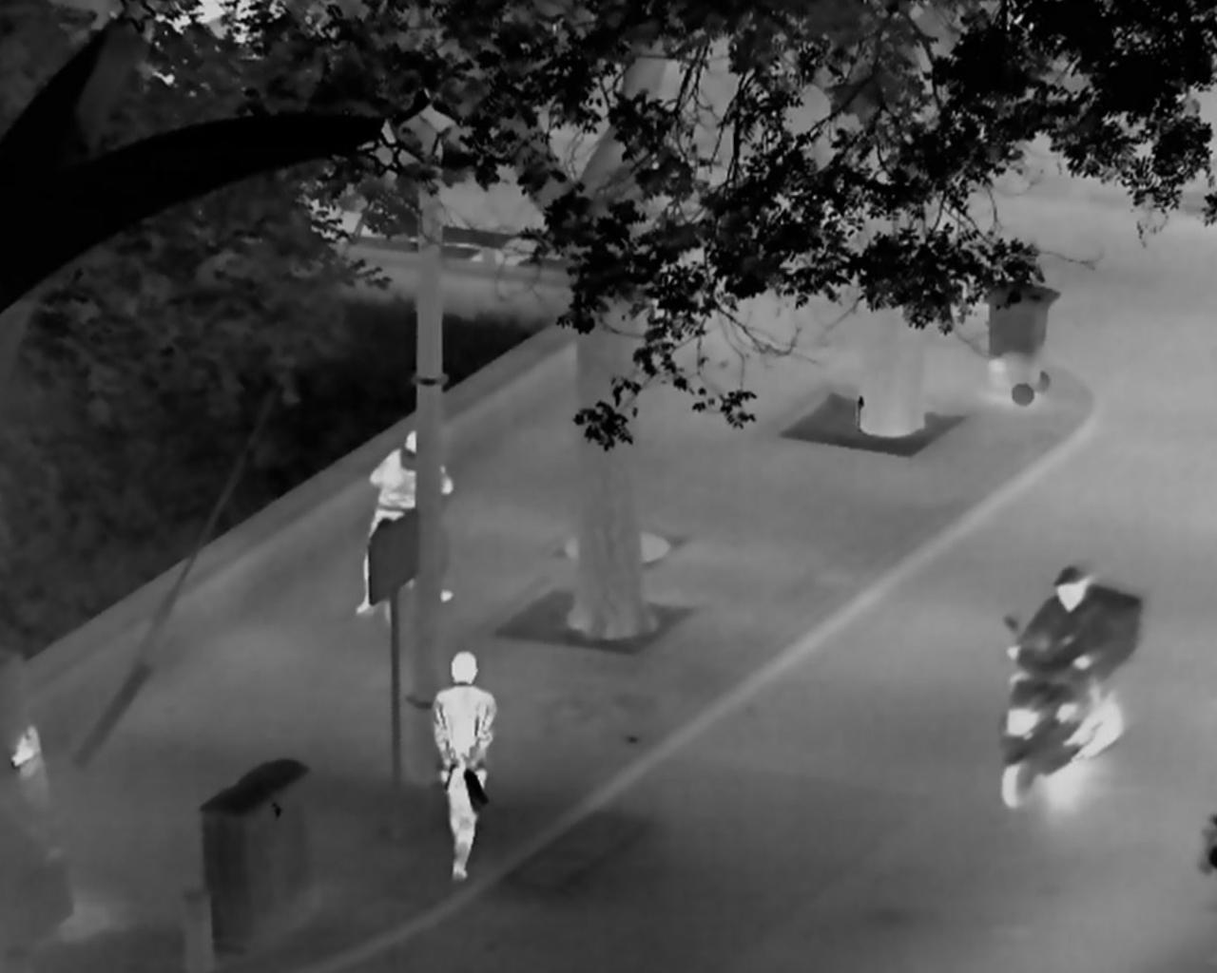person: (1005, 563, 1119, 768), (355, 428, 456, 622), (429, 649, 496, 883)
